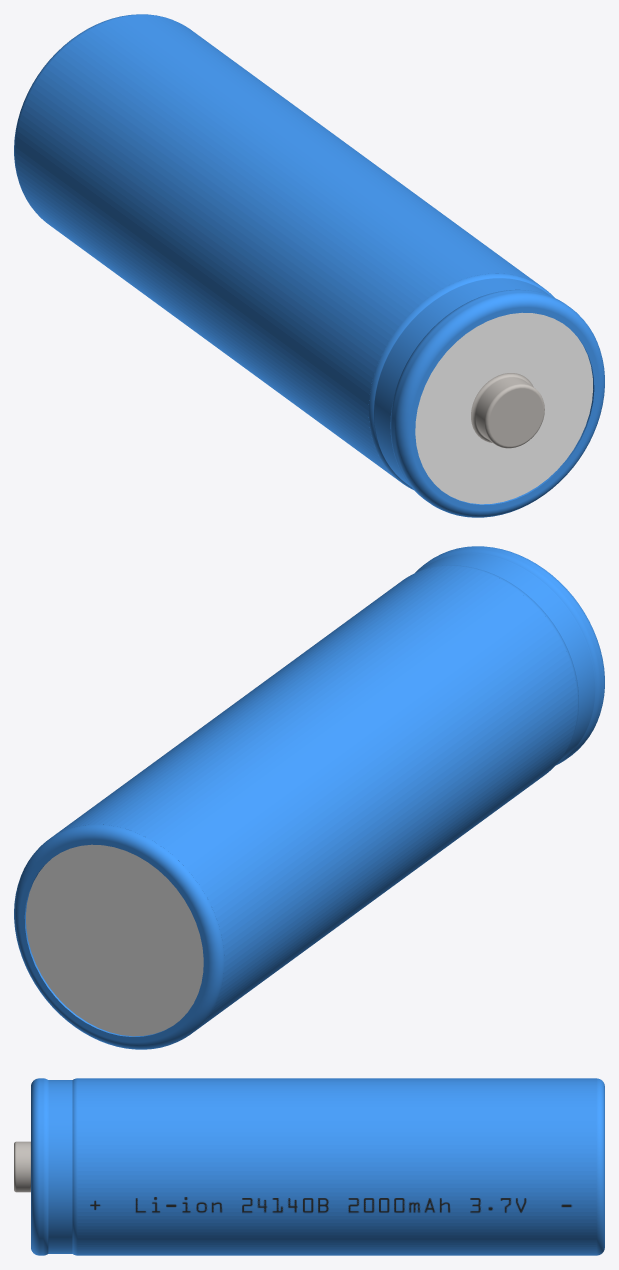
The picture shows the model from 3 angles, top to bottom: view 1: azimuth 30°, elevation 25°; view 2: azimuth 150°, elevation 25°; view 3: azimuth 270°, elevation 25°; orthographic projection. The views are drawn at different scales.
Parts seen in each view (by area): view 1: Cylinder, Cell_Top; view 2: Cylinder, Cell_bottom, Cell_Top; view 3: Cylinder, Cell_Top, Cell_bottom.
Part boxes in pixels (box(x1,y1,x2,y2)): Cylinder: box(15, 15, 550, 480); Cell_Top: box(368, 273, 604, 517); Cylinder: box(41, 566, 577, 1031); Cell_bottom: box(14, 824, 224, 1049); Cell_Top: box(415, 546, 604, 765); Cylinder: box(77, 1078, 596, 1255); Cell_Top: box(14, 1078, 77, 1255); Cell_bottom: box(596, 1078, 604, 1255).
Size of the model in its own units: 0.021 by 0.021 by 0.07.
10 materials, 1 textured.
